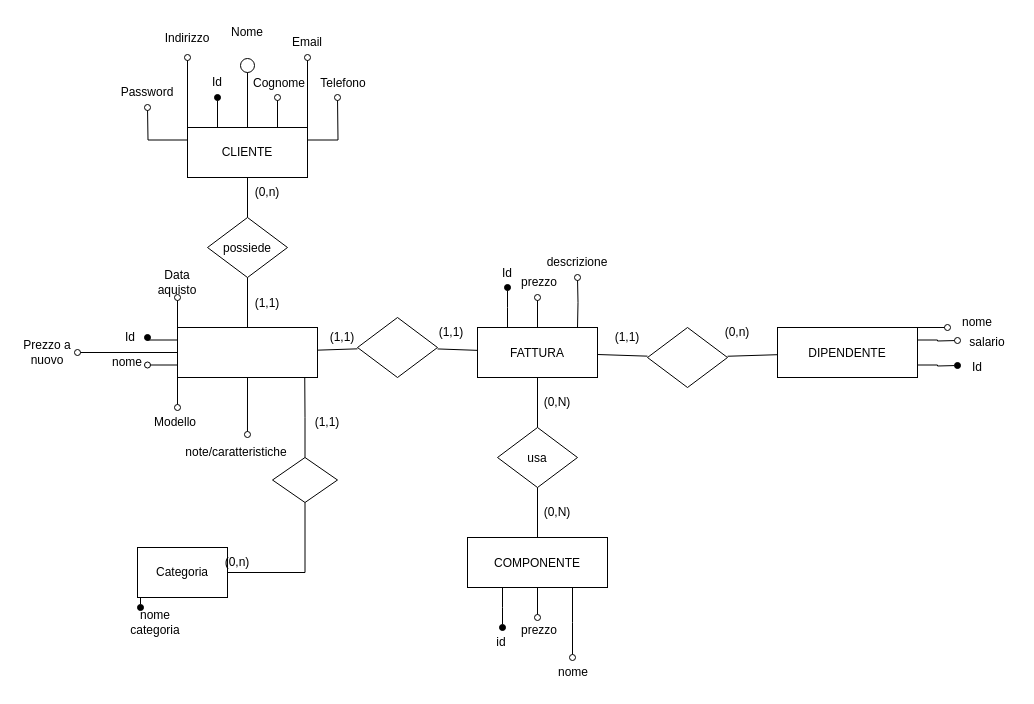
Some shapes in this 1034 by 704 pixel diagram are drawn without their labels. Each missing label, with the centre of its shape:
appartiene: the point at 305,479
Crea: the point at 687,357
DISPOSITIVO: the point at 247,352
riferisce: the point at 397,347
